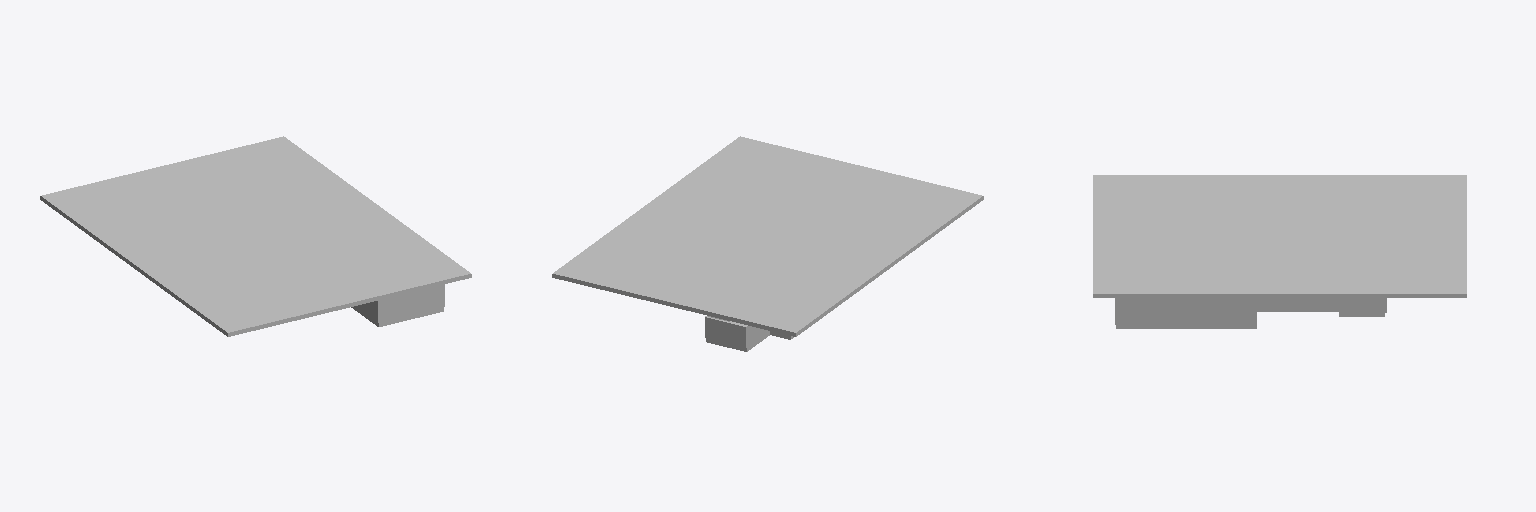
Rendered from etage1_collision.obj.
The picture shows the model from 3 angles: view 1: azimuth 30°, elevation 25°; view 2: azimuth 150°, elevation 25°; view 3: azimuth 270°, elevation 25°; orthographic projection.
Parts seen in each view (by area): view 1: Cube.022, Cube.051; view 2: Cube.022, Cube.005; view 3: Cube.022, Cube.050, Cube.043, Cube.034, Cube.058.
Part boxes in pixels (x1,y1,x2,y2): Cube.022: (40, 136, 471, 336); Cube.051: (379, 285, 443, 323); Cube.022: (552, 136, 983, 336); Cube.005: (706, 317, 746, 347); Cube.022: (1093, 175, 1466, 297); Cube.050: (1116, 298, 1256, 324); Cube.043: (1257, 298, 1338, 307); Cube.034: (1339, 298, 1384, 312); Cube.058: (1116, 325, 1256, 328).
Bounding box in the file's own units: 60 × 10.05 × 80.